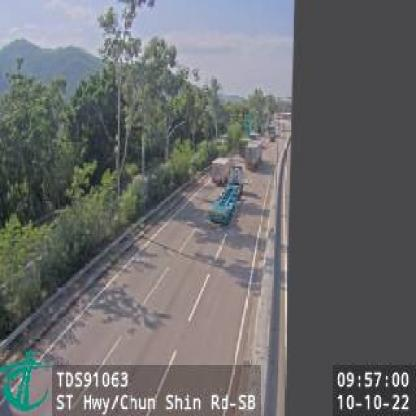Truck: (210, 165, 246, 224), (212, 157, 233, 185), (245, 142, 261, 169)
